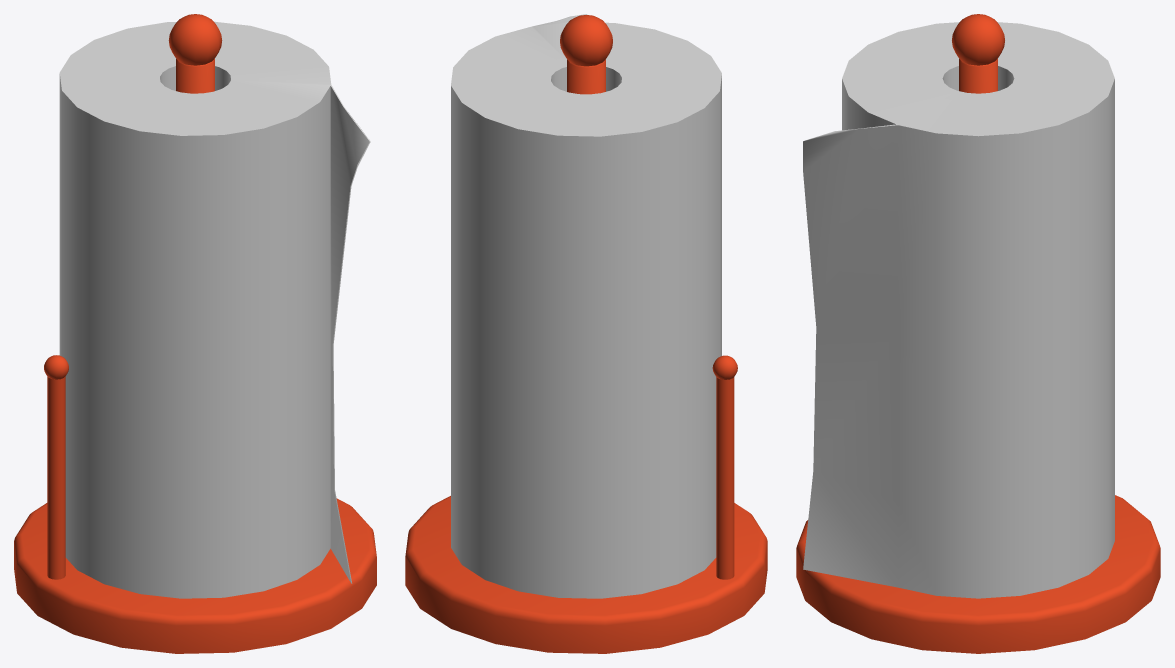
Rendered from PaperTowel_Dispenser_14in_KN001.fbx.
3 renders of one model, left to right at view 1: azimuth 30°, elevation 25°; view 2: azimuth 150°, elevation 25°; view 3: azimuth 270°, elevation 25°, orthographic.
Parts seen in each view (by area): view 1: PaperTowel_Dispenser_14in_KN001; view 2: PaperTowel_Dispenser_14in_KN001; view 3: PaperTowel_Dispenser_14in_KN001.
Part boxes in pixels (x1,y1,x2,y2): PaperTowel_Dispenser_14in_KN001: [14, 14, 376, 653]; PaperTowel_Dispenser_14in_KN001: [405, 14, 767, 653]; PaperTowel_Dispenser_14in_KN001: [796, 14, 1160, 653].
Bounding box in the file's own units: 23.44 × 39.76 × 23.44.
